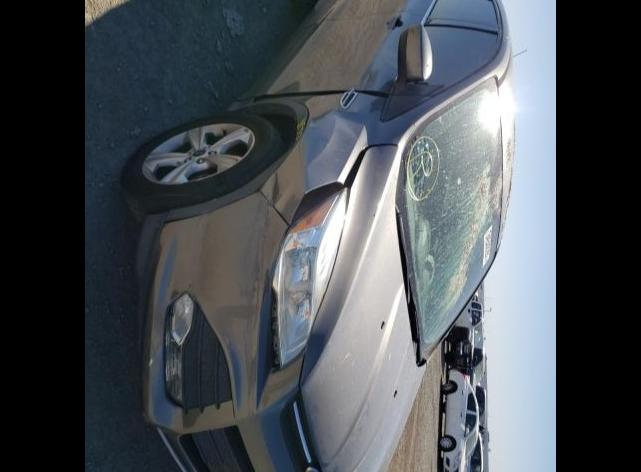Broken part: (266, 142, 398, 370), (226, 88, 392, 110)
Dent: (255, 108, 398, 228), (184, 212, 212, 306)
Paint chip: (146, 358, 154, 368)
